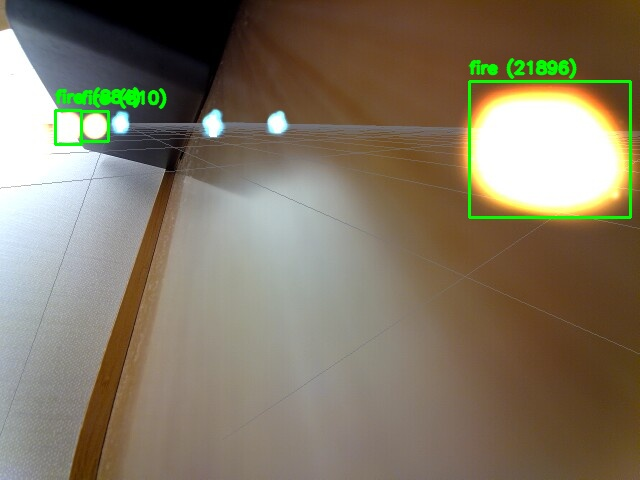fire: (469, 81, 630, 217), (55, 110, 81, 144), (81, 111, 108, 141)
